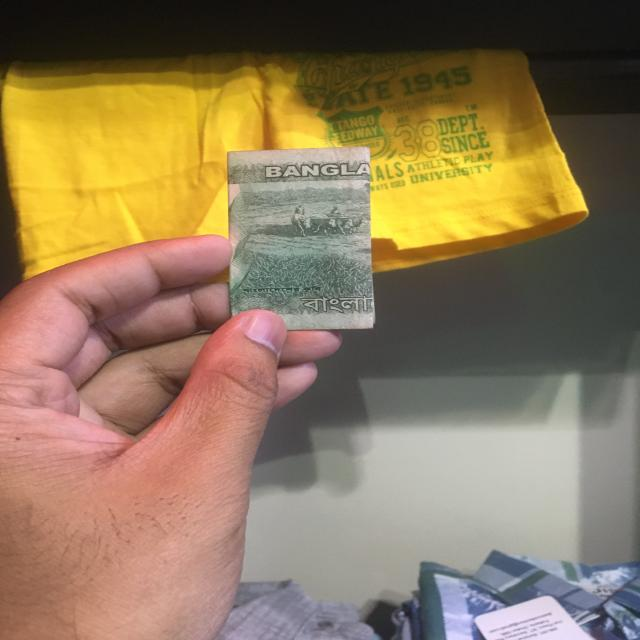Taka: (225, 150, 368, 327)
